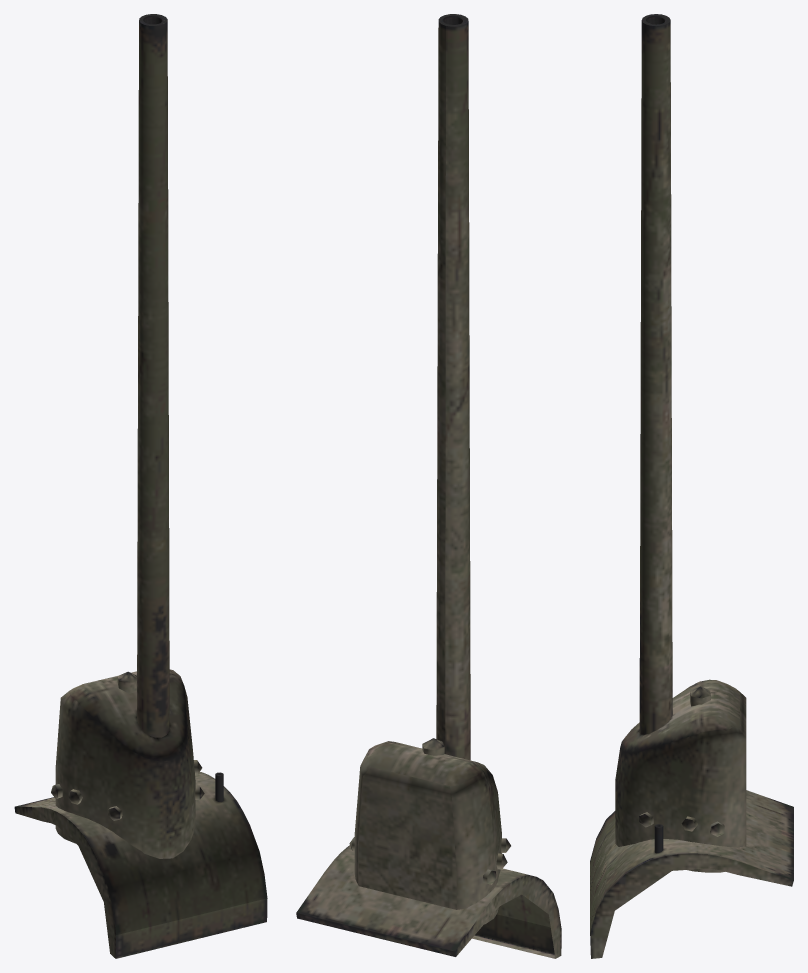
The model's file is Gun_01.glb.
The picture shows the model from 3 angles, left to right: view 1: azimuth 30°, elevation 25°; view 2: azimuth 150°, elevation 25°; view 3: azimuth 270°, elevation 25°; orthographic projection. The views are drawn at different scales.
Visible parts, largest first — view 1: set_0_group_0; view 2: set_0_group_0; view 3: set_0_group_0.
Boxes of the visible parts, bbox=[...] form: set_0_group_0: bbox=[14, 14, 267, 958]; set_0_group_0: bbox=[296, 14, 561, 958]; set_0_group_0: bbox=[590, 14, 793, 958].
Size of the model in its own units: 0.5584 by 3.14 by 0.6445.
1 material, 1 textured.
